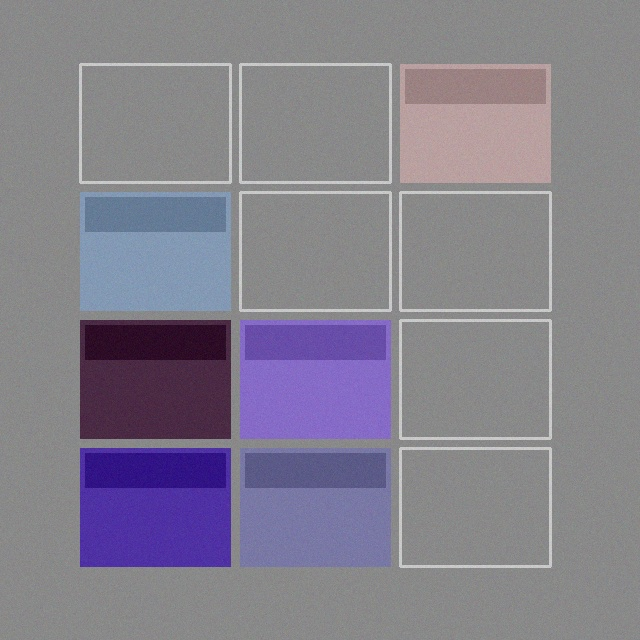space-empty: (80, 64, 230, 182), (240, 64, 390, 182), (240, 192, 390, 310), (400, 192, 550, 310), (400, 320, 550, 438), (400, 448, 550, 566)
space-occupied: (400, 64, 550, 182), (80, 192, 230, 310), (80, 320, 230, 438), (240, 320, 390, 438), (80, 448, 230, 566), (240, 448, 390, 566)
